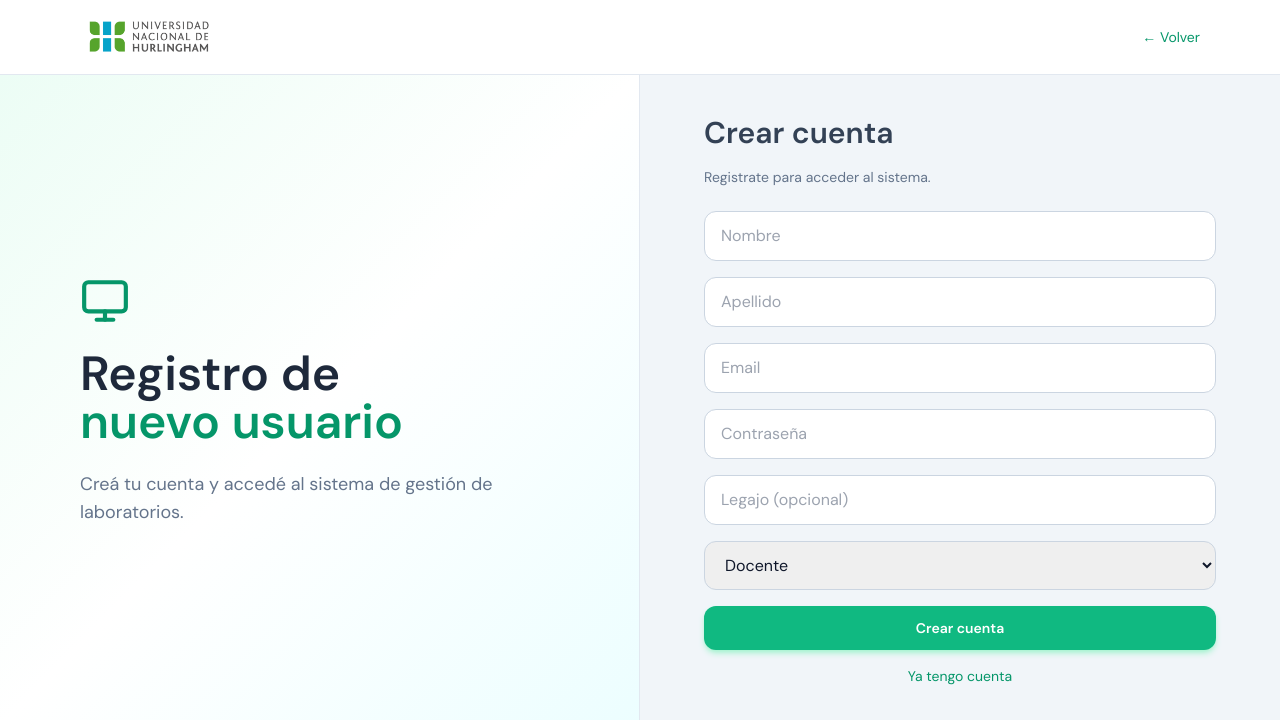
Test: RegistroForm Component › valida correctamente el formato del email
Type "emailinvalido" into the field with placeholder "Email" at [960, 368], box [704,343,1216,393]
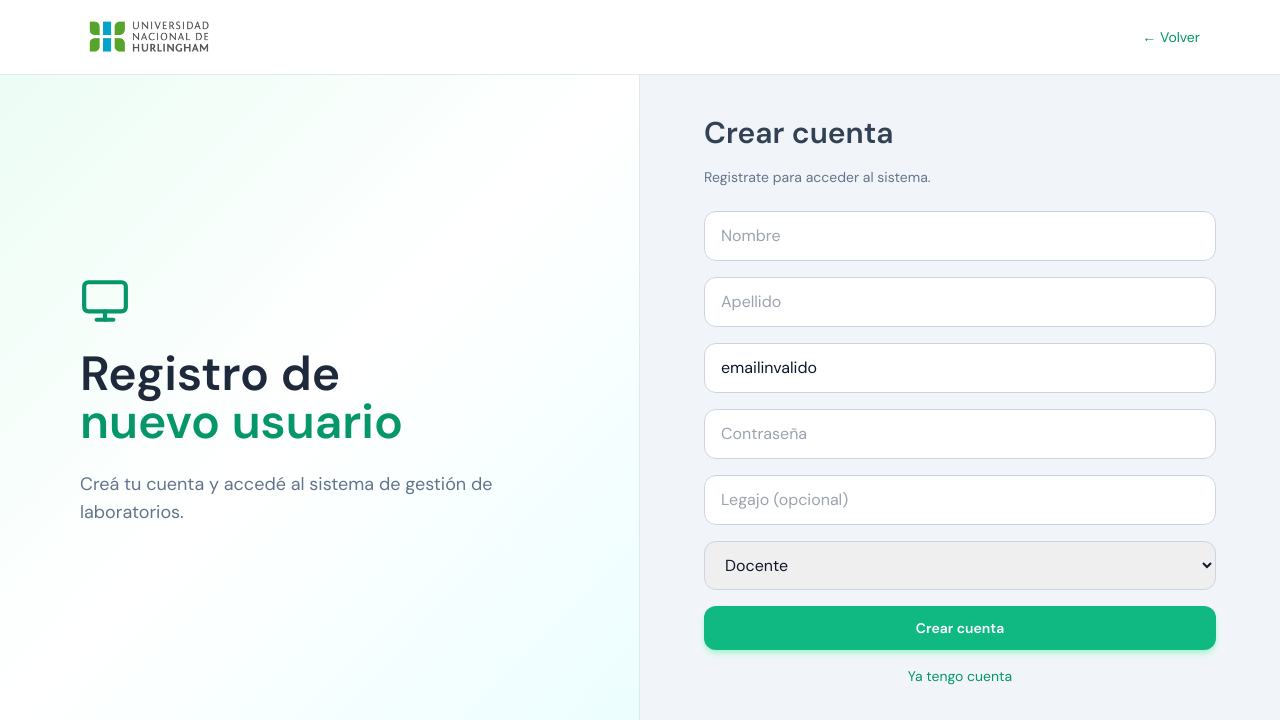
Submit the form, box [704,115,1216,686]
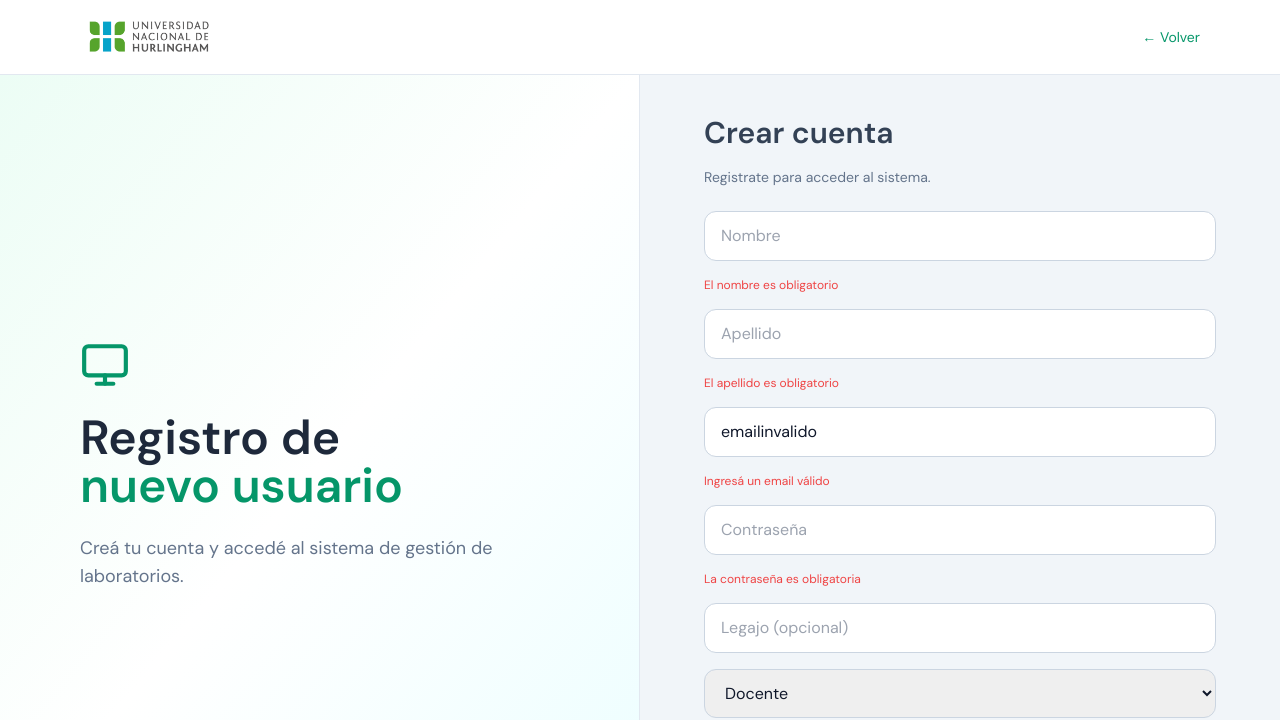
Check: the text "Ingresá un email válido" is shown, box [704,473,830,489]
